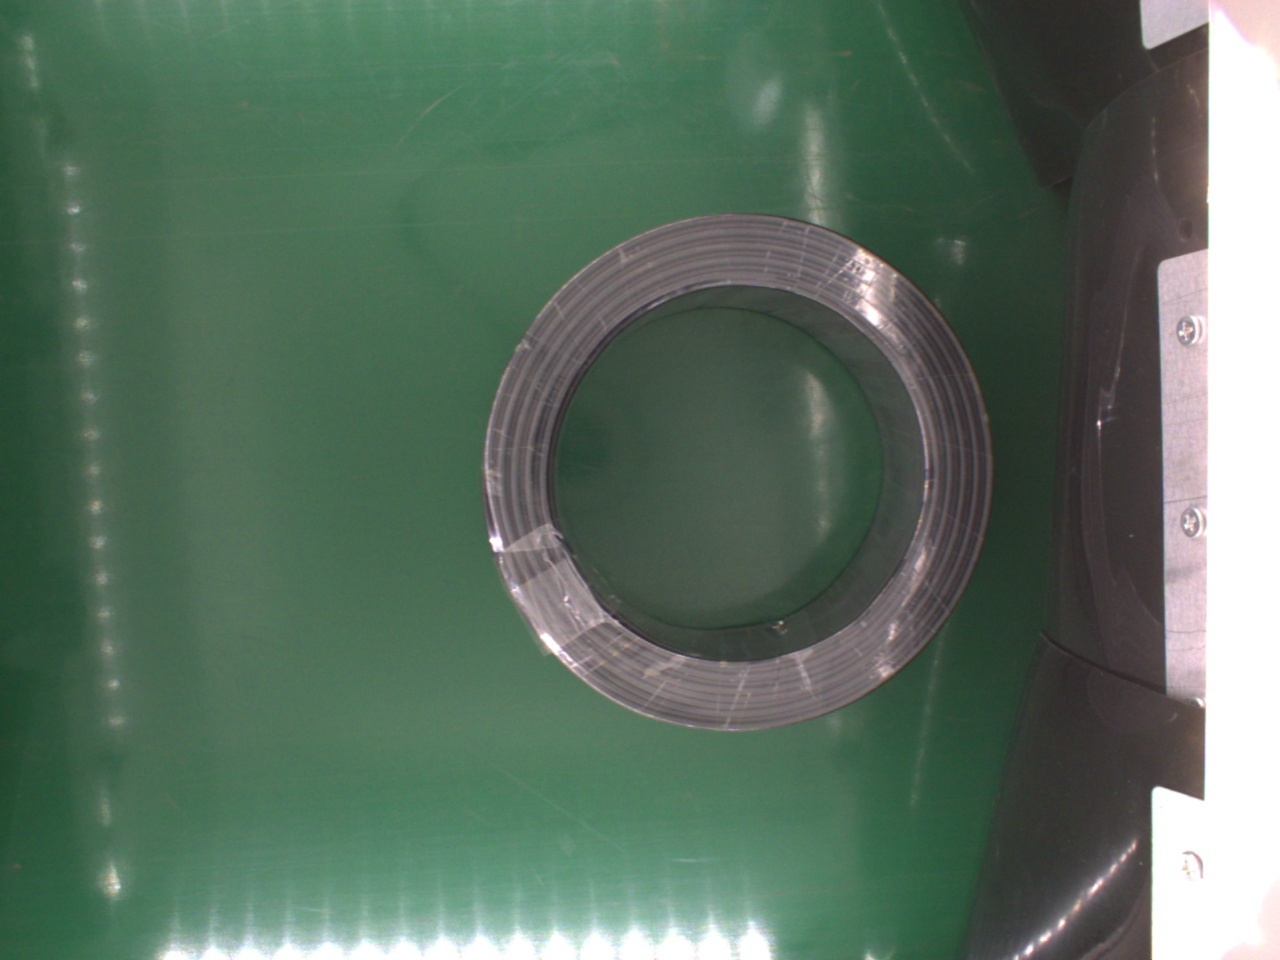black: (479, 211, 995, 731)
